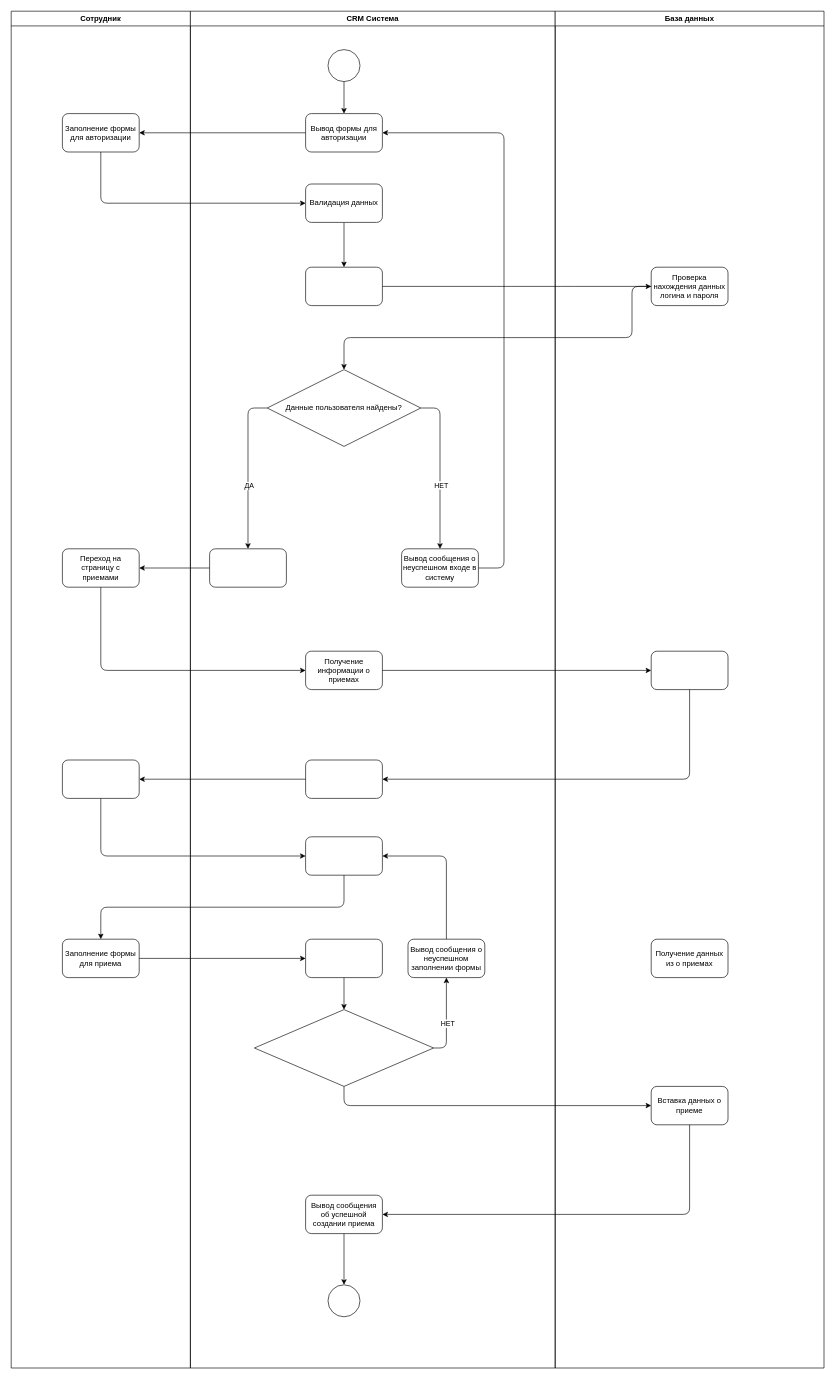
The diagram is 835 pixels wide and 1379 high, and some of its shapes have lost their labels. The shapes that lost their labels are listed below. From the top down, each one's centre as x and y in pixels, then its label:
At point 343,286: "Генерация хэша из пароля".
At point 247,567: "Вывод об успешном входе в систему".
At point 689,670: "Получение данных о приемах".
At point 100,778: "Нажатие кнопки о создании нового приема".
At point 343,778: "Вывод информации о приемах".
At point 343,855: "Вывод формы для заполнения информации о приеме".
At point 343,958: "Валидация данных формы".
At point 344,1047: "Валидация формы прошла успешно?".
